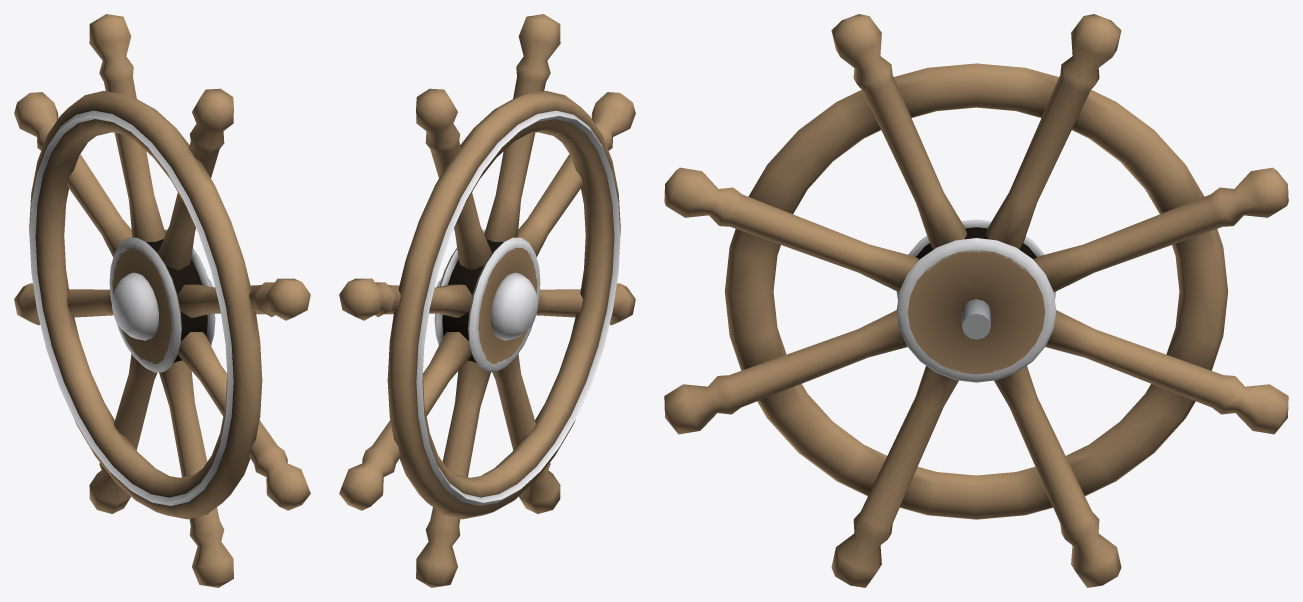
Rendered from steer_ship.glb.
The picture shows the model from 3 angles, left to right: view 1: azimuth 30°, elevation 25°; view 2: azimuth 150°, elevation 25°; view 3: azimuth 270°, elevation 25°; orthographic projection. The views are drawn at different scales.
Parts seen in each view (by area): view 1: PART; view 2: PART; view 3: PART.
Part boxes in pixels (box(x1,y1,x2,y2)): PART: box(14, 14, 310, 587); PART: box(339, 14, 635, 587); PART: box(664, 14, 1288, 587).
Size of the model in its own units: 0.105 by 0.563 by 0.563.
